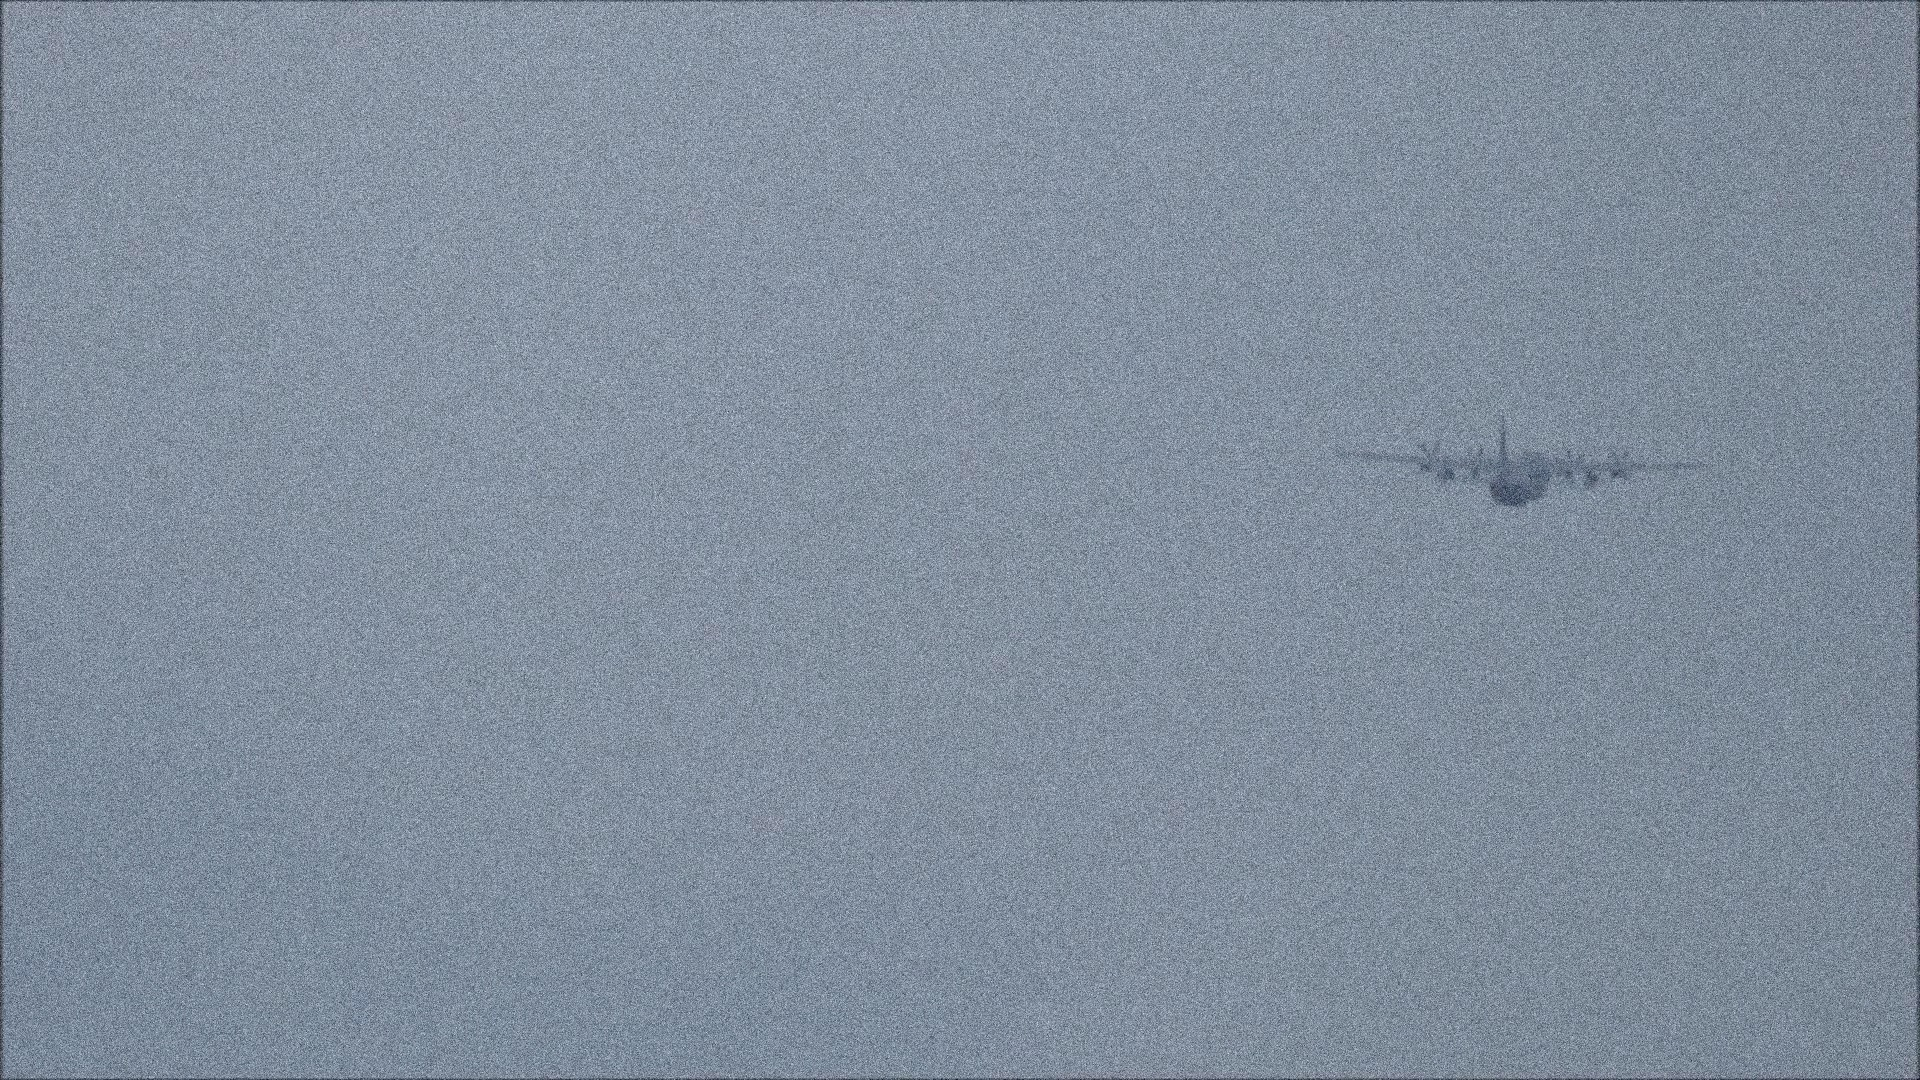Airplane: (1352, 405, 1716, 505)
